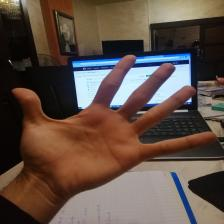five: (10, 52, 218, 184)
